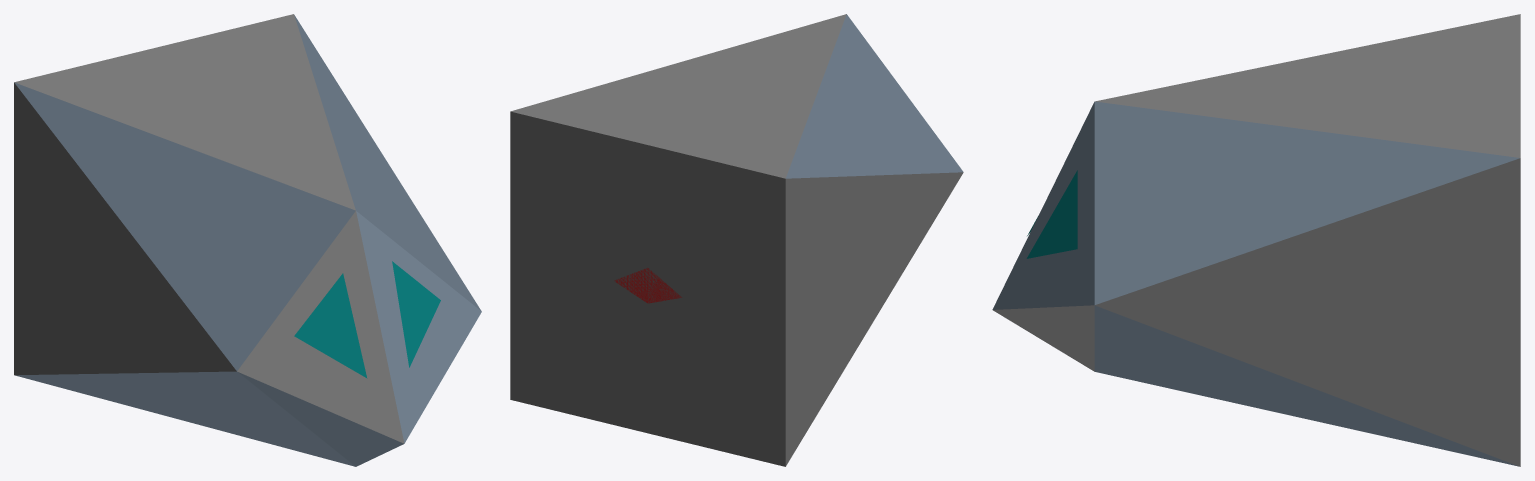
File: shuttle.obj
The picture shows the model from 3 angles, left to right: view 1: azimuth 30°, elevation 25°; view 2: azimuth 150°, elevation 25°; view 3: azimuth 270°, elevation 25°; orthographic projection. The views are drawn at different scales.
Size of the model in its own units: 40 by 40 by 62.
